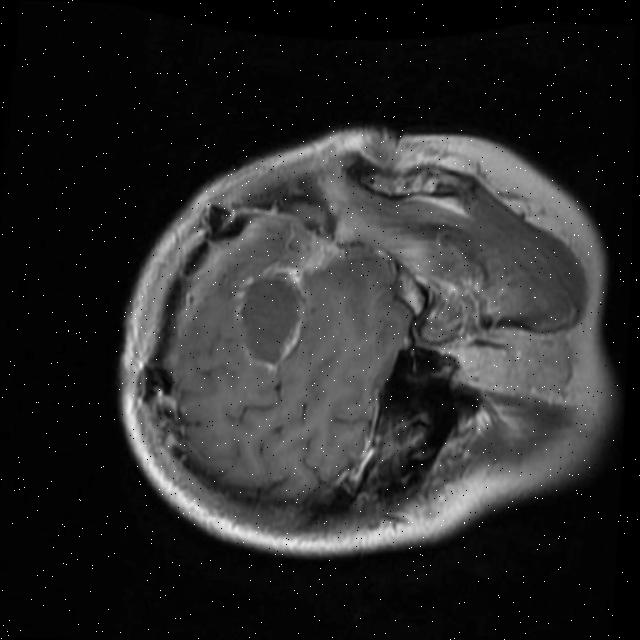Glioma: (230, 262, 310, 374)
